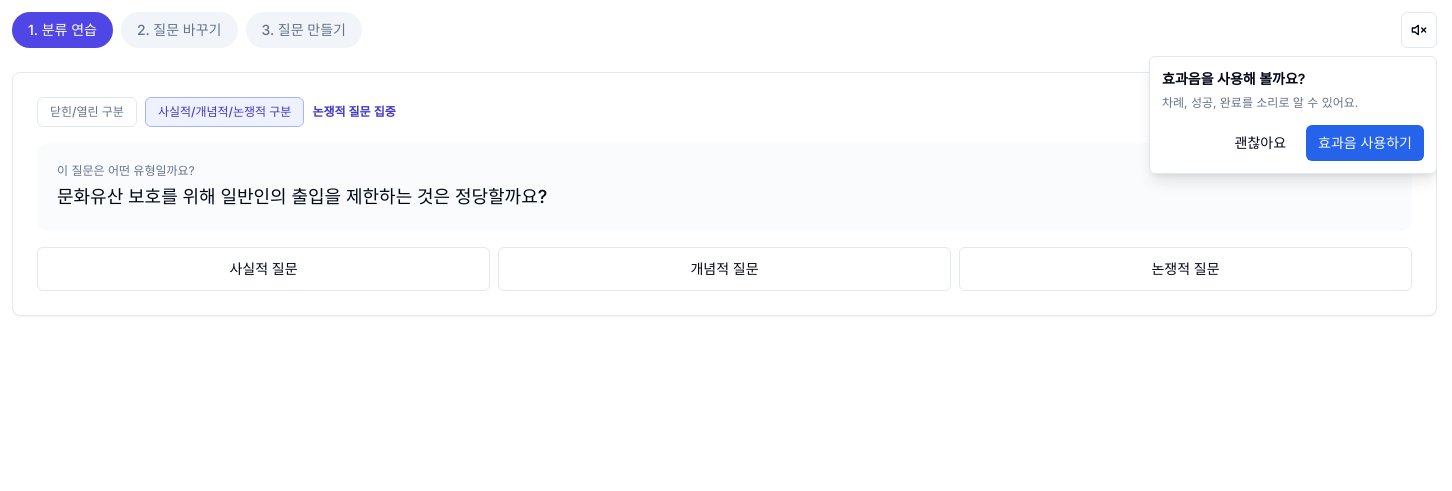
it: 연습 질문 전달 › 커스텀 문항이 도착해도 추천과 다른 유형은 집중 묶음에 섞지 않는다
Click the button "논쟁적 질문" at (1186, 269), box x1=959 y1=247 x2=1412 y2=291
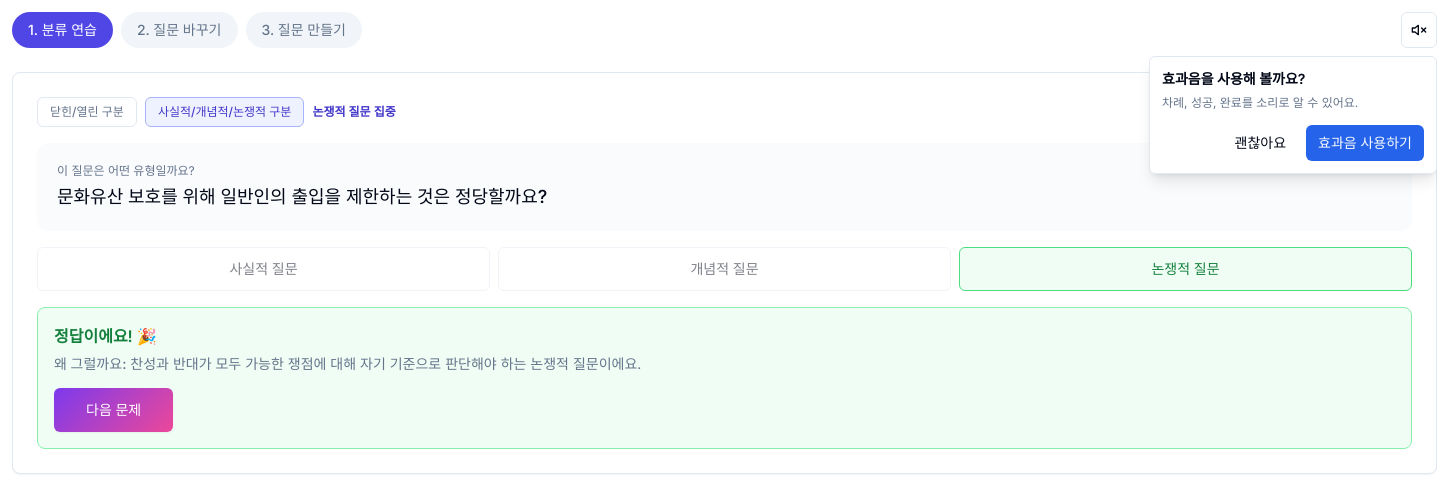
Click the button "다음 문제" at (114, 410), box x1=54 y1=388 x2=173 y2=432
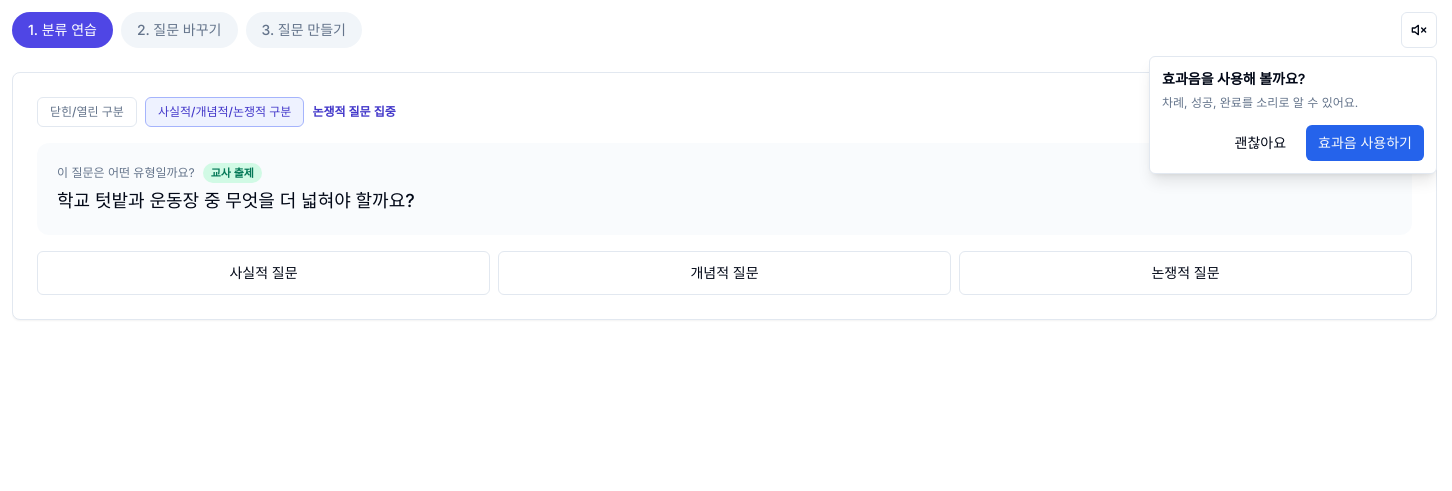
Expected: the text "학교 텃밭과 운동장 중 무엇을 더 넓혀야 할까요?" is shown, x1=57 y1=190 x2=415 y2=211
